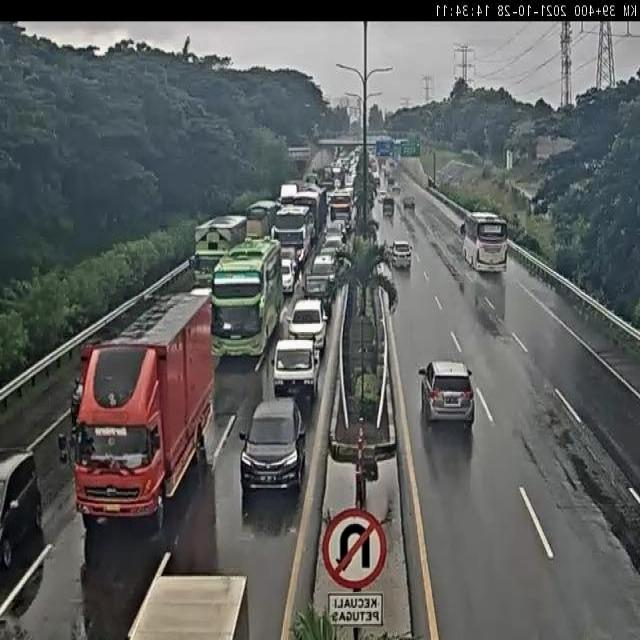Bus: (210, 237, 284, 359), (273, 203, 315, 272), (462, 210, 507, 272), (290, 185, 328, 243)
Car: (239, 397, 308, 500), (420, 358, 476, 425), (287, 296, 329, 353), (305, 251, 342, 305), (391, 240, 413, 268), (280, 258, 296, 296), (382, 196, 394, 218)
Truck: (66, 291, 214, 532), (194, 214, 248, 286), (271, 338, 321, 409), (246, 200, 282, 240)
